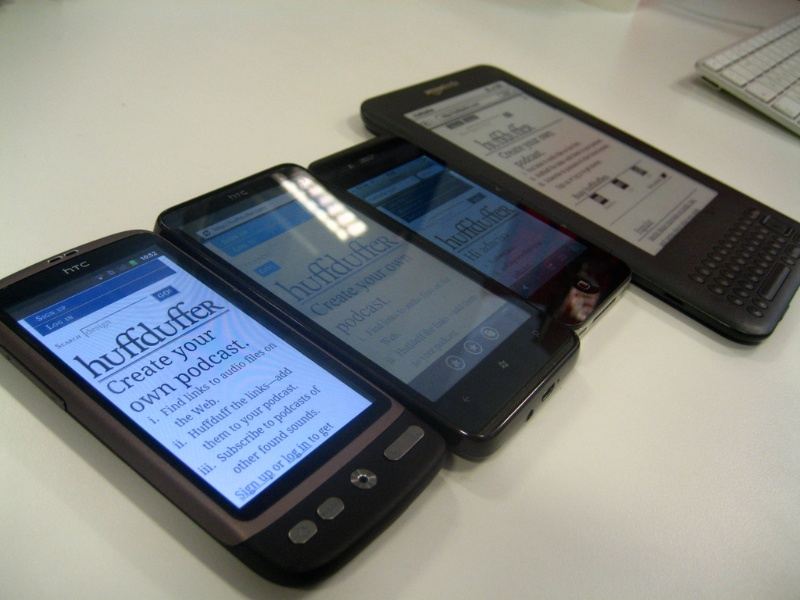cellphone: (15, 68, 800, 572)
